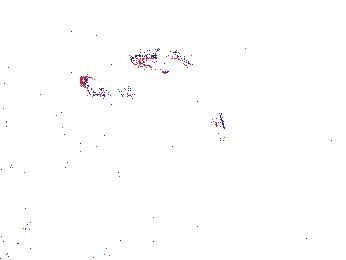glassfish: (189, 71, 229, 147)
redtail glassfish: (129, 48, 189, 70), (96, 86, 138, 102), (79, 76, 106, 99)
